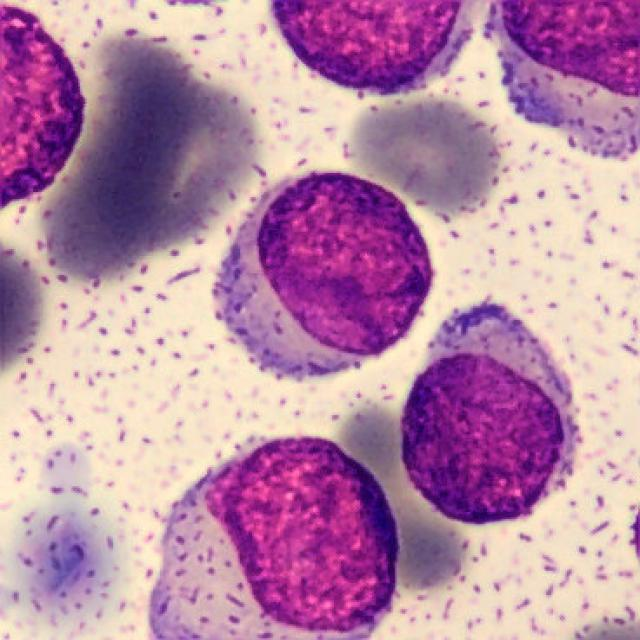Mieloblasto: (151, 438, 397, 640), (216, 171, 435, 374), (402, 318, 577, 528)
